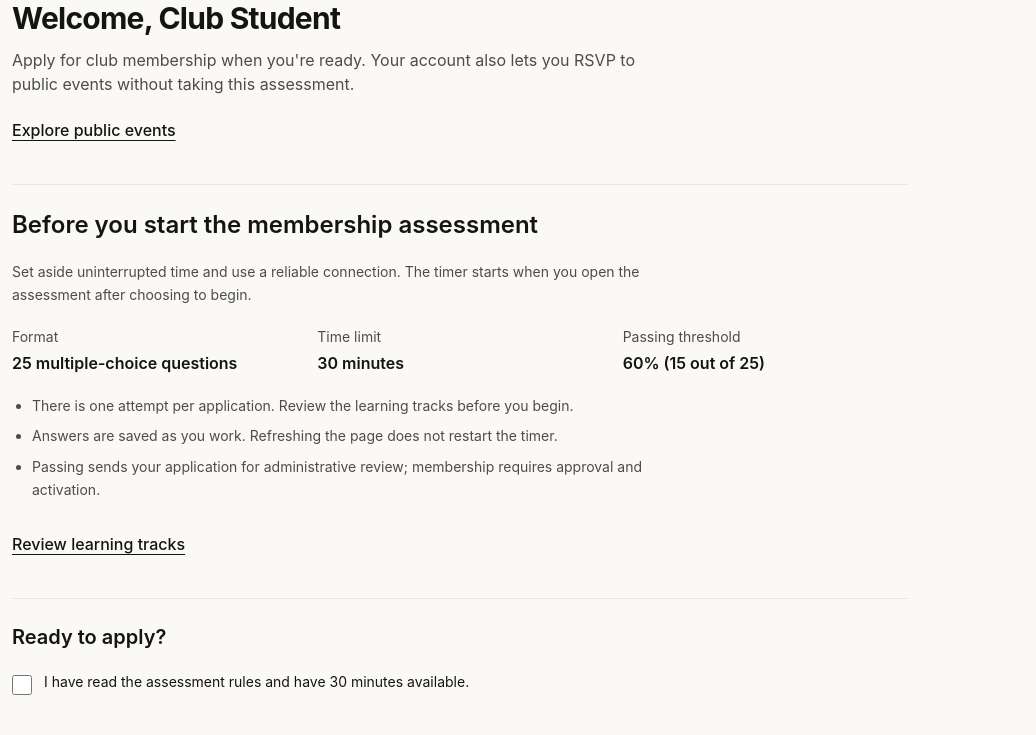
Test: Member and applicant journeys › does not start an application until the applicant confirms readiness and chooses to begin
The image size is (1036, 735).
Click the checkbox at (22, 684), box [12, 674, 32, 694]
(page scrolled)
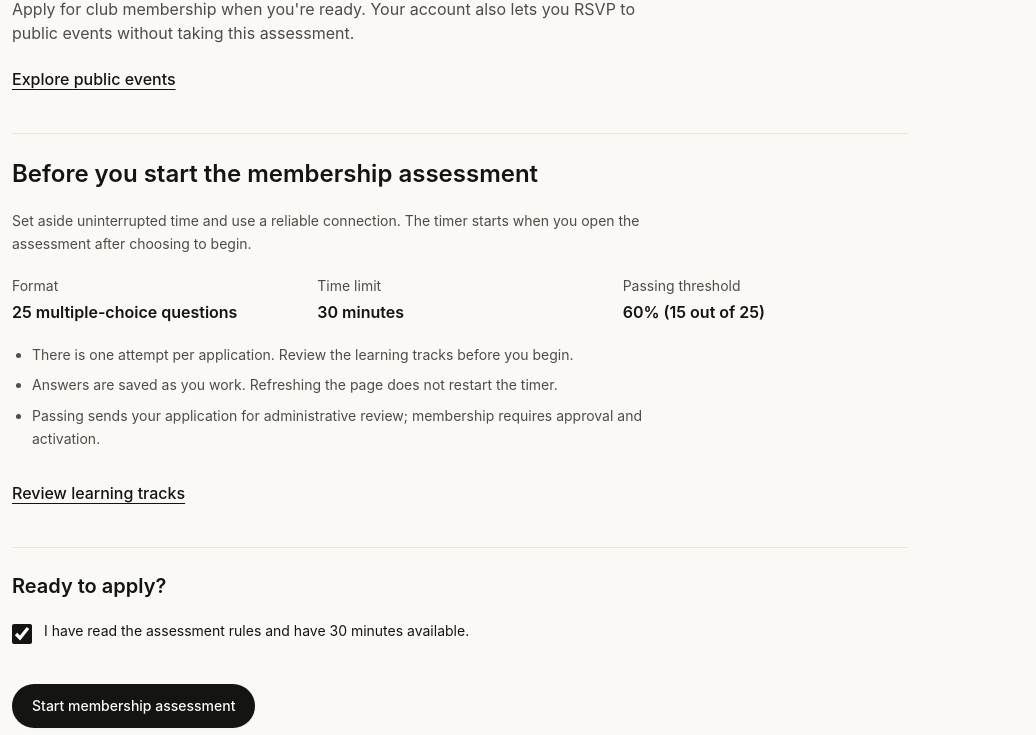
Click the button "Start membership assessment" at (134, 706), box [12, 684, 255, 728]
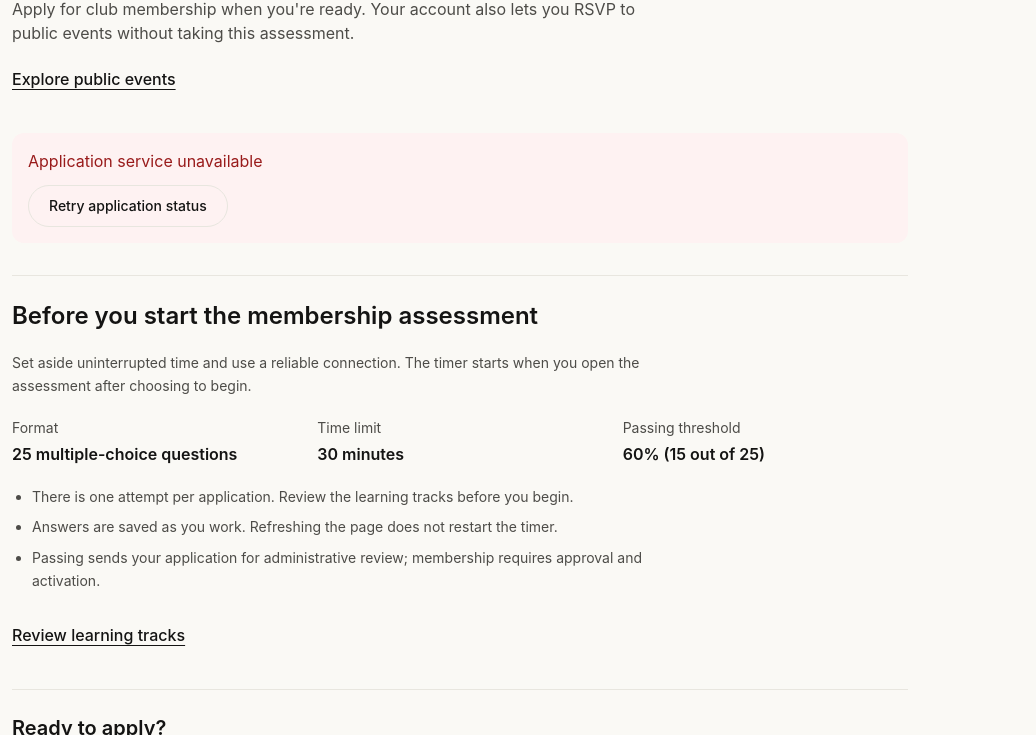
Expected: the message shows "Application service unavailable", [28, 151, 262, 171]
